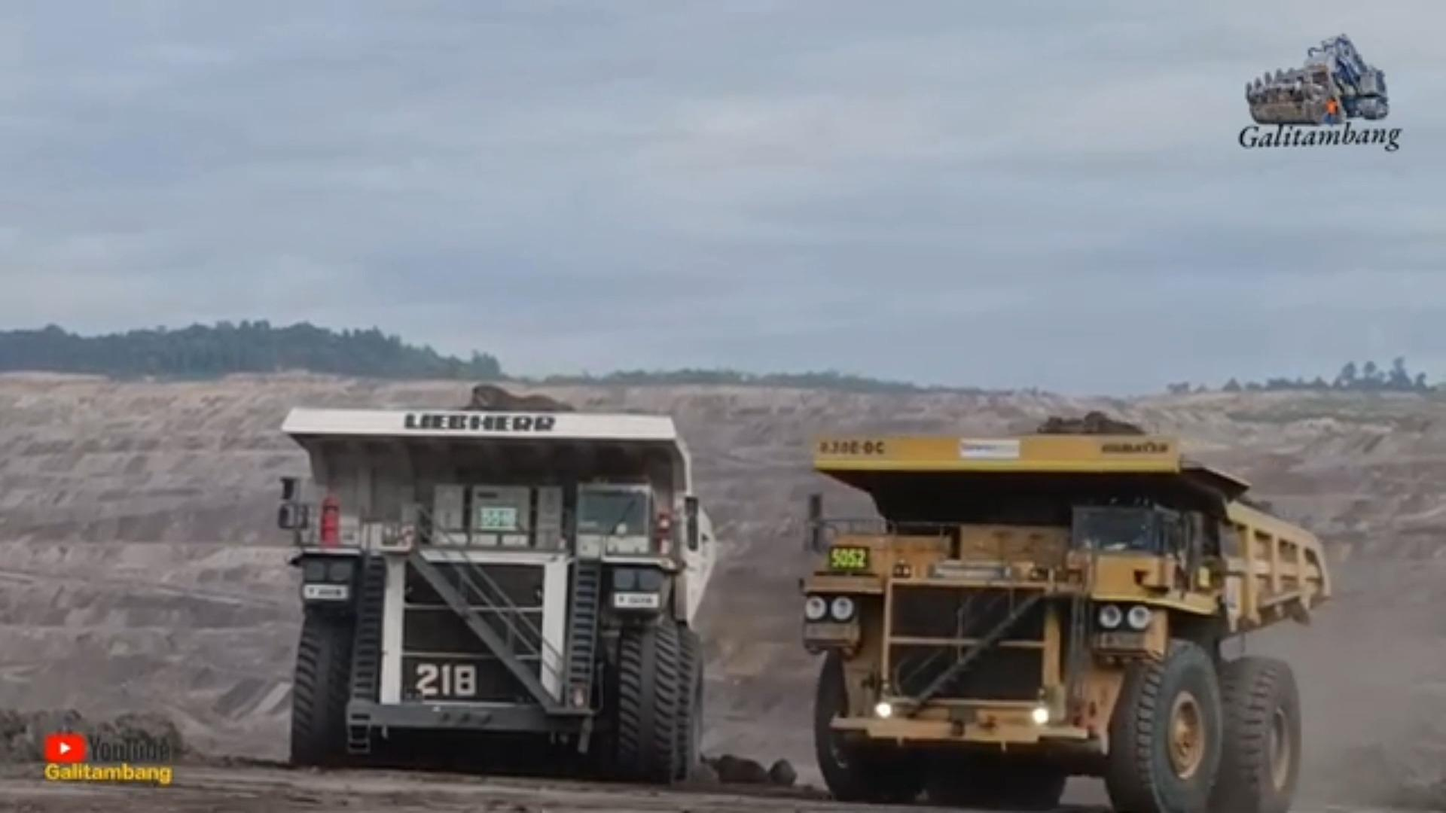HD-Truck: (798, 413, 1331, 812), (276, 385, 719, 786)
